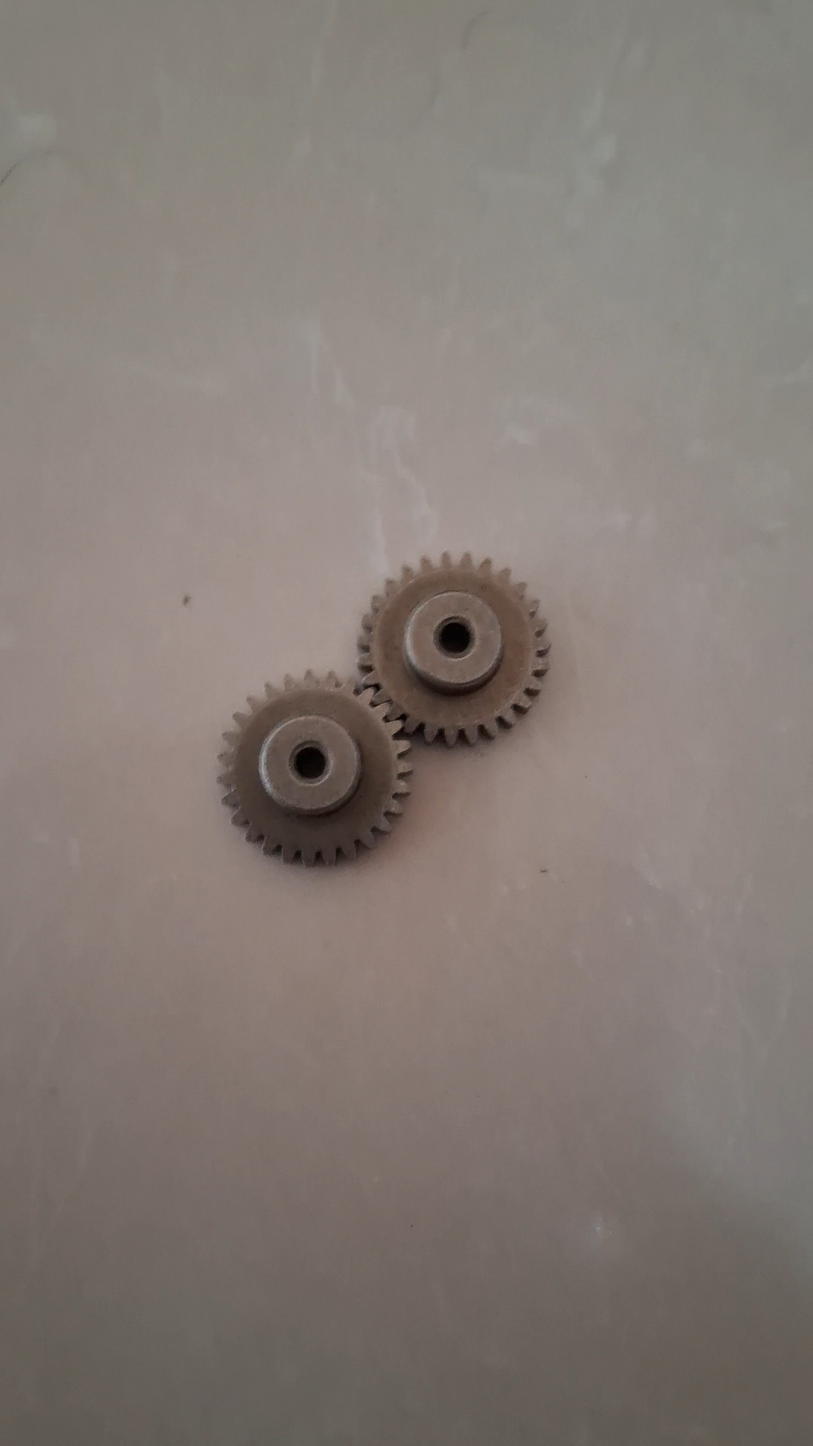spur gear: (219, 673, 411, 864), (358, 553, 549, 745)
